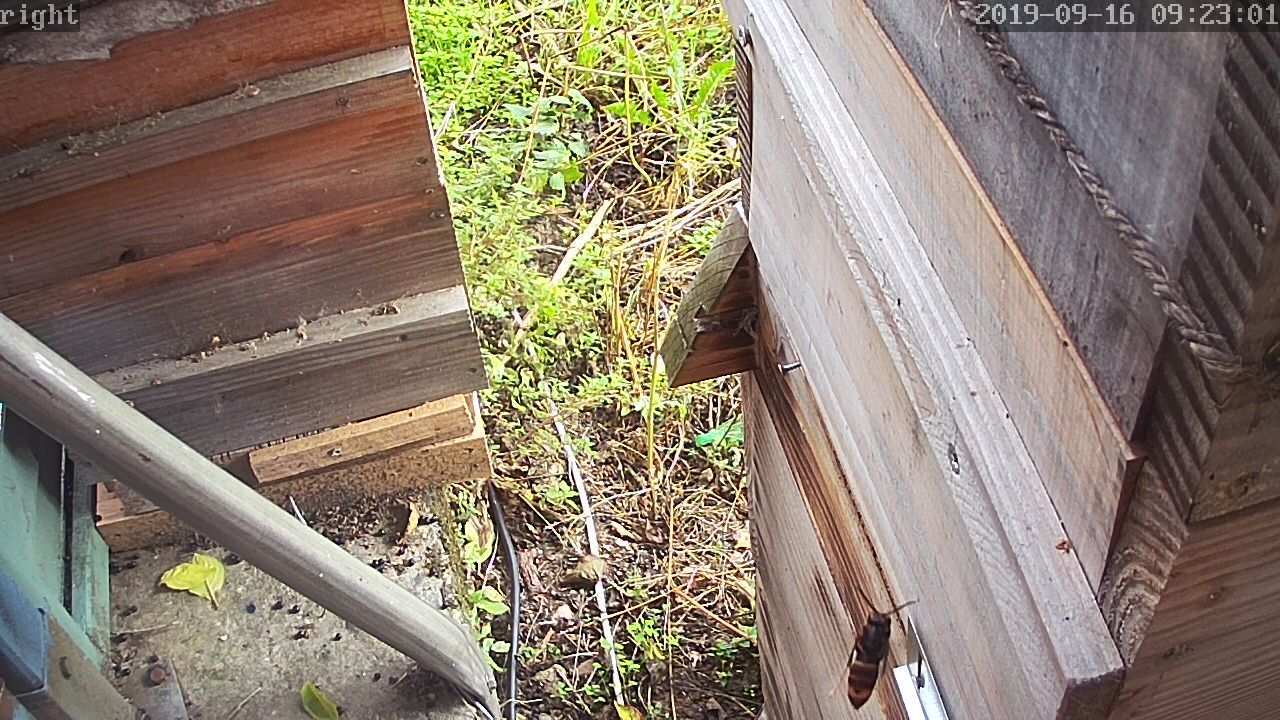hornet: (831, 595, 902, 714)
